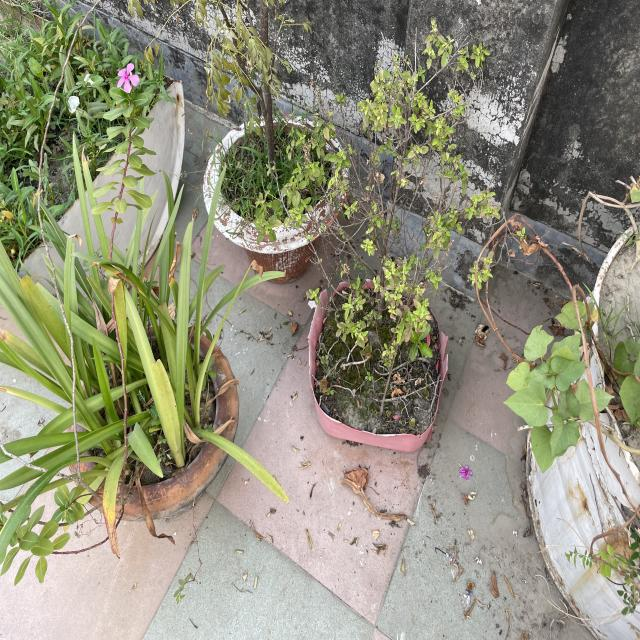Breeding Place: (521, 177, 640, 640), (56, 317, 238, 524), (307, 279, 443, 444), (218, 116, 342, 278)
